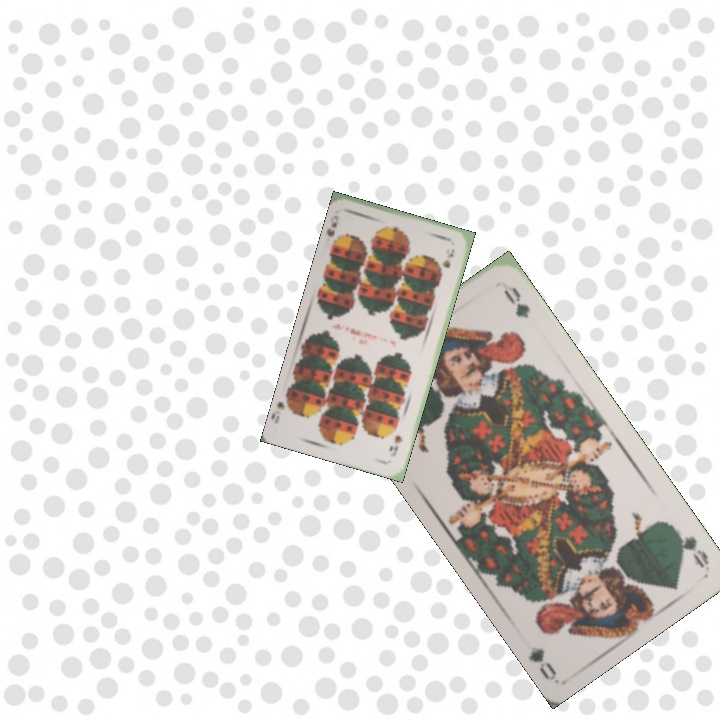GO: (668, 521, 712, 571)
S9: (327, 211, 344, 249), (386, 431, 405, 459)
